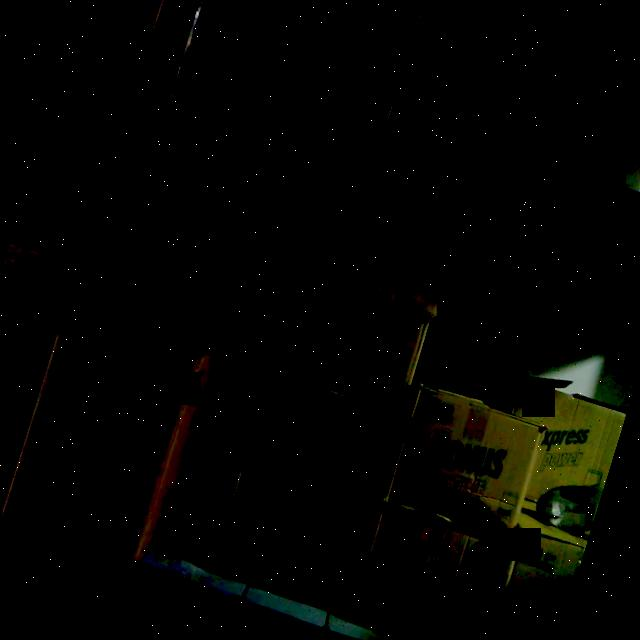box: (0, 308, 202, 570), (383, 381, 547, 534), (208, 466, 378, 612), (290, 183, 464, 319), (484, 374, 628, 530), (348, 503, 509, 640), (388, 16, 540, 158), (272, 278, 432, 411), (509, 53, 640, 198), (250, 377, 402, 498), (267, 0, 415, 120), (474, 520, 587, 640), (148, 0, 297, 86)
